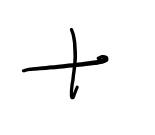plus: (22, 27, 109, 98)
